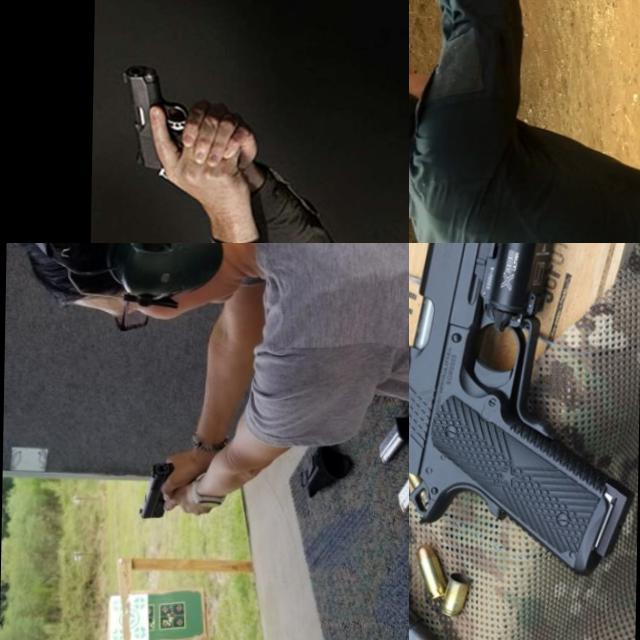handgun: (409, 243, 640, 579), (409, 299, 558, 640), (117, 62, 188, 175), (136, 458, 174, 520), (409, 0, 458, 39)
